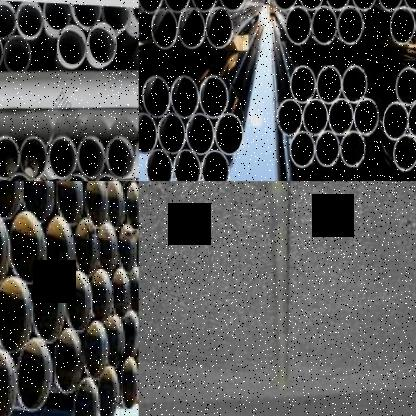pipe: (6, 209, 49, 288), (13, 337, 55, 413), (0, 274, 34, 355), (30, 276, 65, 347), (43, 214, 78, 283), (50, 326, 82, 398), (77, 321, 111, 382), (63, 268, 92, 334), (16, 181, 57, 225), (72, 216, 98, 280), (54, 181, 85, 227), (89, 267, 114, 324), (94, 365, 121, 416), (80, 181, 108, 230), (199, 75, 228, 120), (96, 222, 120, 275), (48, 135, 76, 180), (110, 266, 132, 323), (0, 344, 17, 416), (215, 113, 244, 155), (118, 355, 139, 413), (170, 76, 198, 119), (142, 76, 170, 118), (78, 136, 105, 179), (89, 22, 117, 63), (186, 114, 214, 155), (158, 113, 186, 154), (150, 8, 178, 49), (205, 7, 233, 48), (104, 314, 124, 371), (20, 137, 47, 179), (104, 181, 127, 230), (58, 25, 86, 65), (70, 381, 102, 416), (108, 136, 134, 178), (178, 7, 204, 49), (286, 6, 312, 46), (120, 308, 139, 362), (312, 6, 338, 45), (338, 6, 364, 45), (3, 35, 30, 72), (277, 99, 303, 137), (342, 66, 368, 104), (390, 7, 416, 45), (290, 66, 316, 103), (119, 311, 139, 359), (0, 205, 11, 292), (383, 102, 408, 140), (354, 98, 379, 136), (316, 66, 341, 104), (340, 131, 366, 167), (392, 134, 416, 172), (17, 2, 43, 37), (0, 135, 20, 180), (290, 132, 315, 168), (315, 131, 340, 167), (302, 100, 327, 136), (201, 150, 230, 181), (117, 221, 134, 273), (173, 149, 200, 181), (146, 149, 173, 181), (0, 181, 24, 217), (395, 67, 416, 106), (123, 183, 139, 233), (44, 3, 72, 30), (139, 113, 157, 153), (102, 6, 130, 30), (74, 4, 102, 28), (0, 1, 16, 38), (128, 274, 139, 308), (162, 0, 190, 12), (407, 100, 416, 137), (138, 0, 163, 13), (190, 0, 217, 11), (377, 0, 403, 11), (298, 0, 324, 10), (325, 0, 351, 10), (350, 0, 376, 10), (272, 0, 298, 10), (219, 0, 245, 10), (134, 349, 138, 400), (128, 8, 139, 26), (403, 0, 416, 11), (0, 32, 2, 70)
